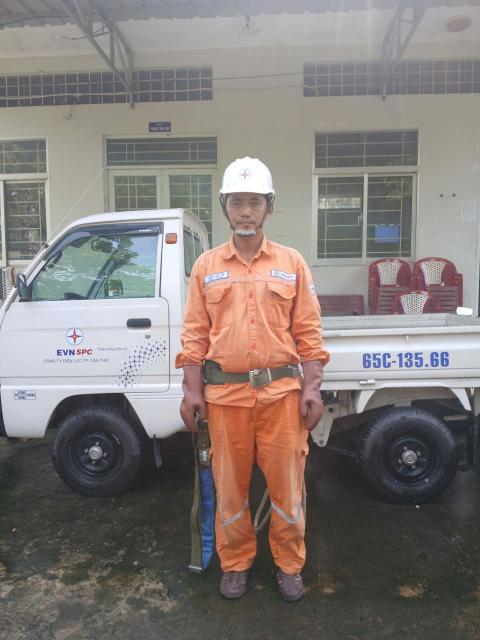gloves: (171, 352, 210, 433), (299, 353, 336, 432)
harness: (191, 352, 322, 385)
helmet: (185, 153, 294, 202)
shoes: (207, 550, 266, 604), (268, 549, 314, 604)
